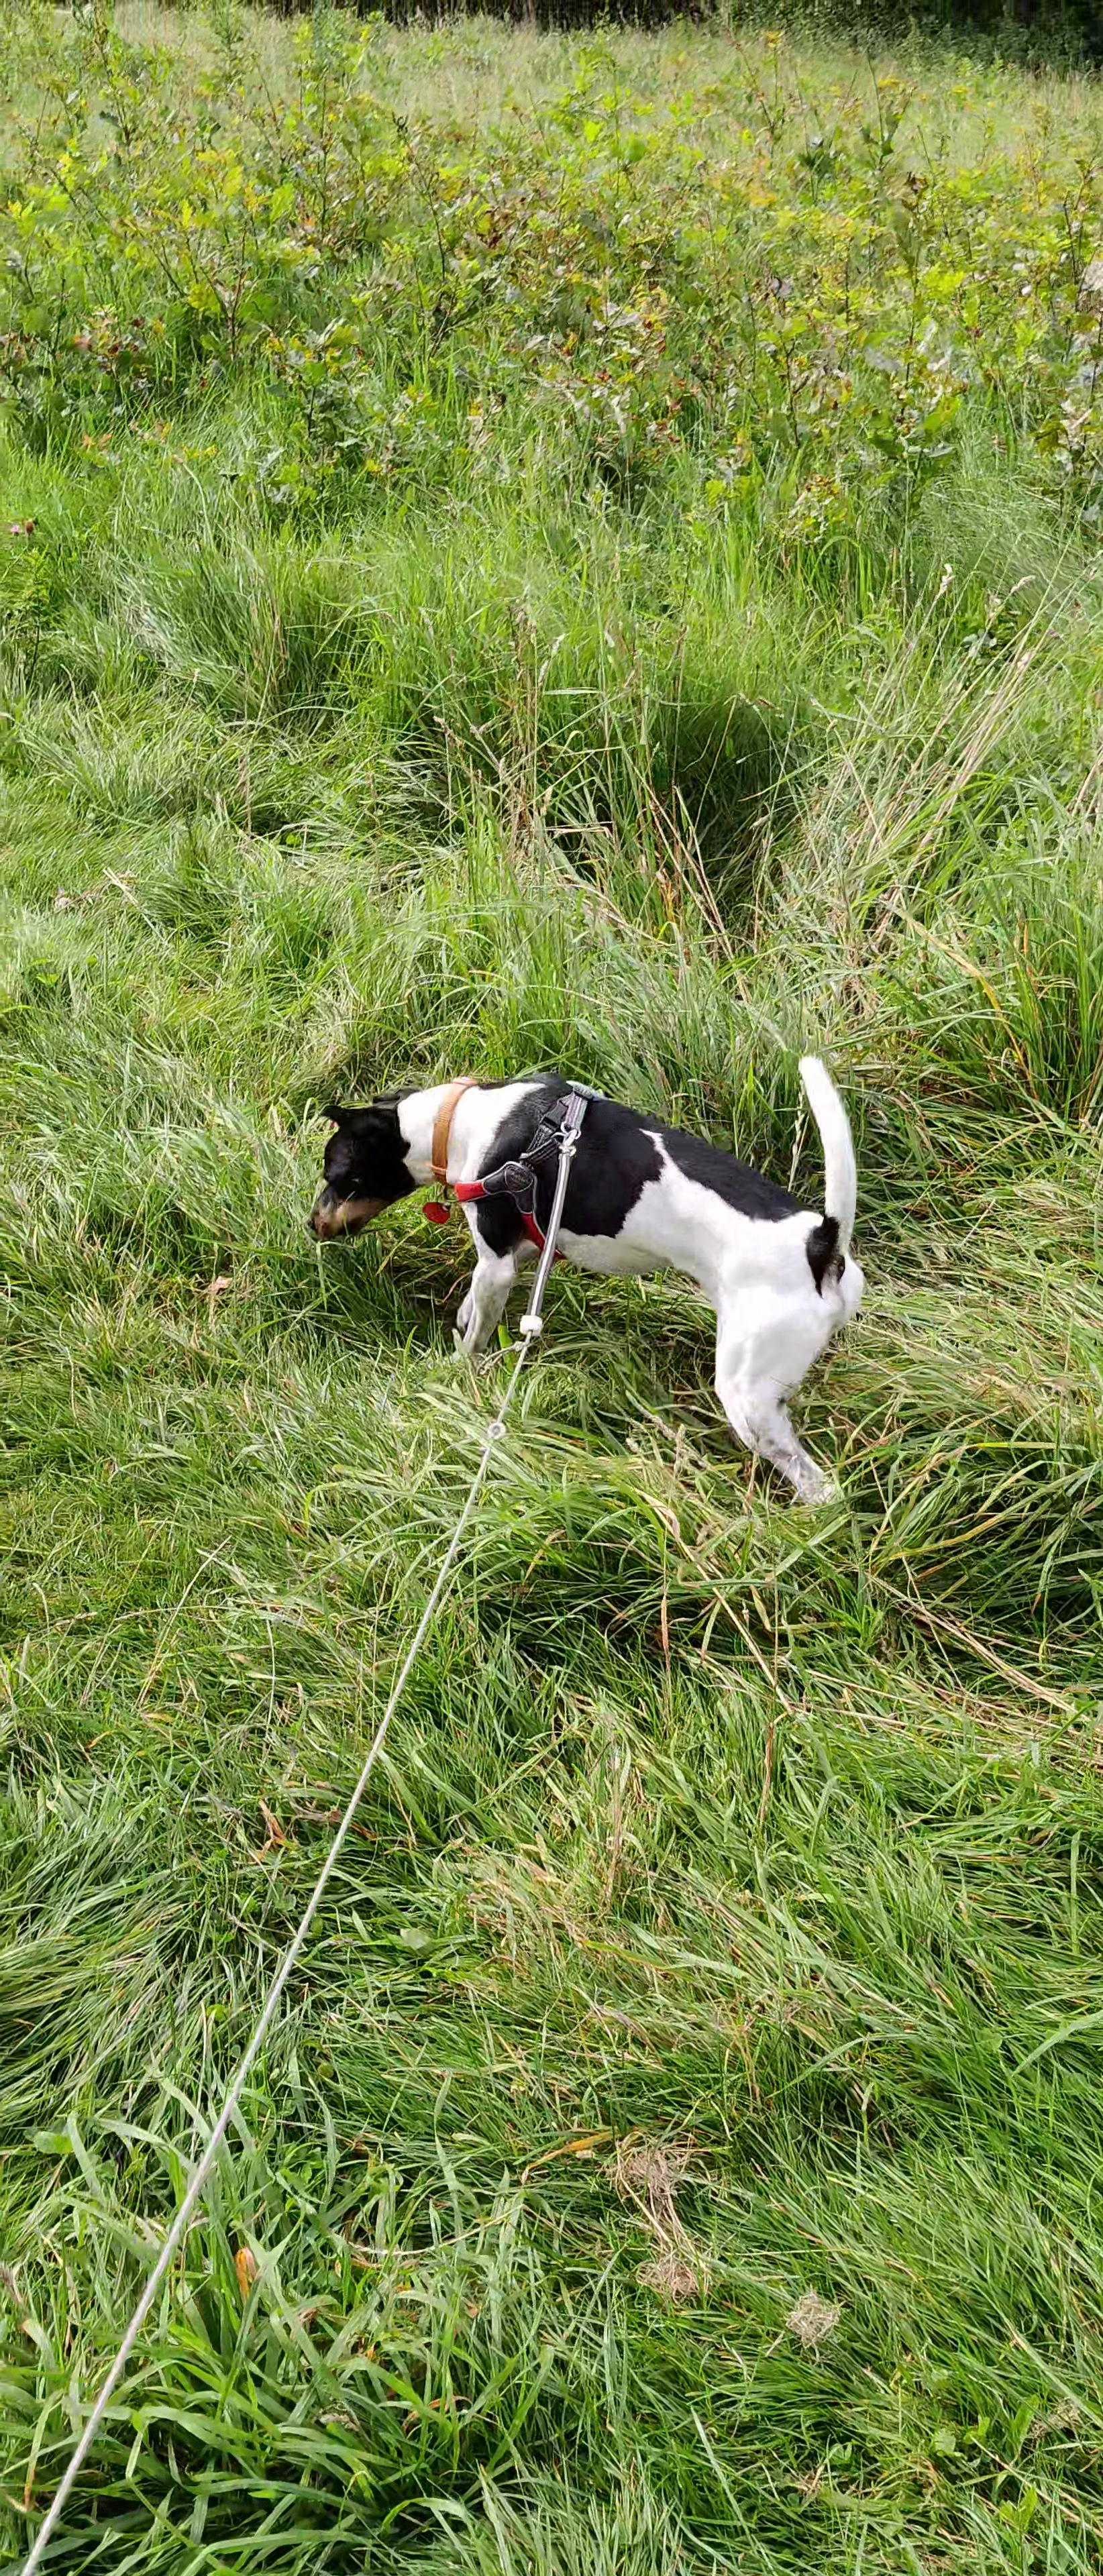Dog: (284, 999, 884, 1526)
